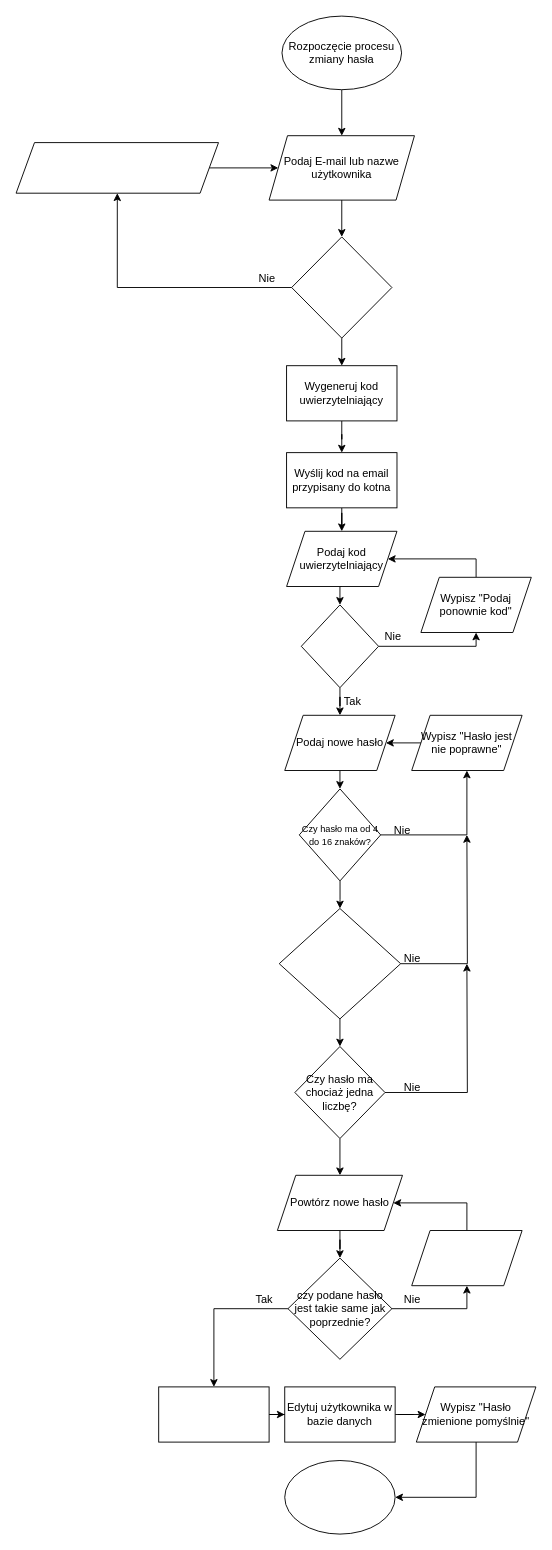
This 552x1550 diagram has some shape labels left out. Each missing label, with the box of its shape:
Czy dane znajdują się w bazie danych?: (291, 236, 392, 338)
Czy hasło zawiera co najmniej jedną małą i wielką literę?: (278, 908, 401, 1019)
czy kod się zgadza?: (300, 604, 379, 688)
Koniec: (284, 1460, 395, 1534)
Oblicz hash hasła: (158, 1386, 269, 1442)
Wypisz "Nie znaleziono konta z takimi danymi": (15, 142, 218, 193)
Wypisz "Podane hasła nie są identyczne: (411, 1230, 522, 1286)
